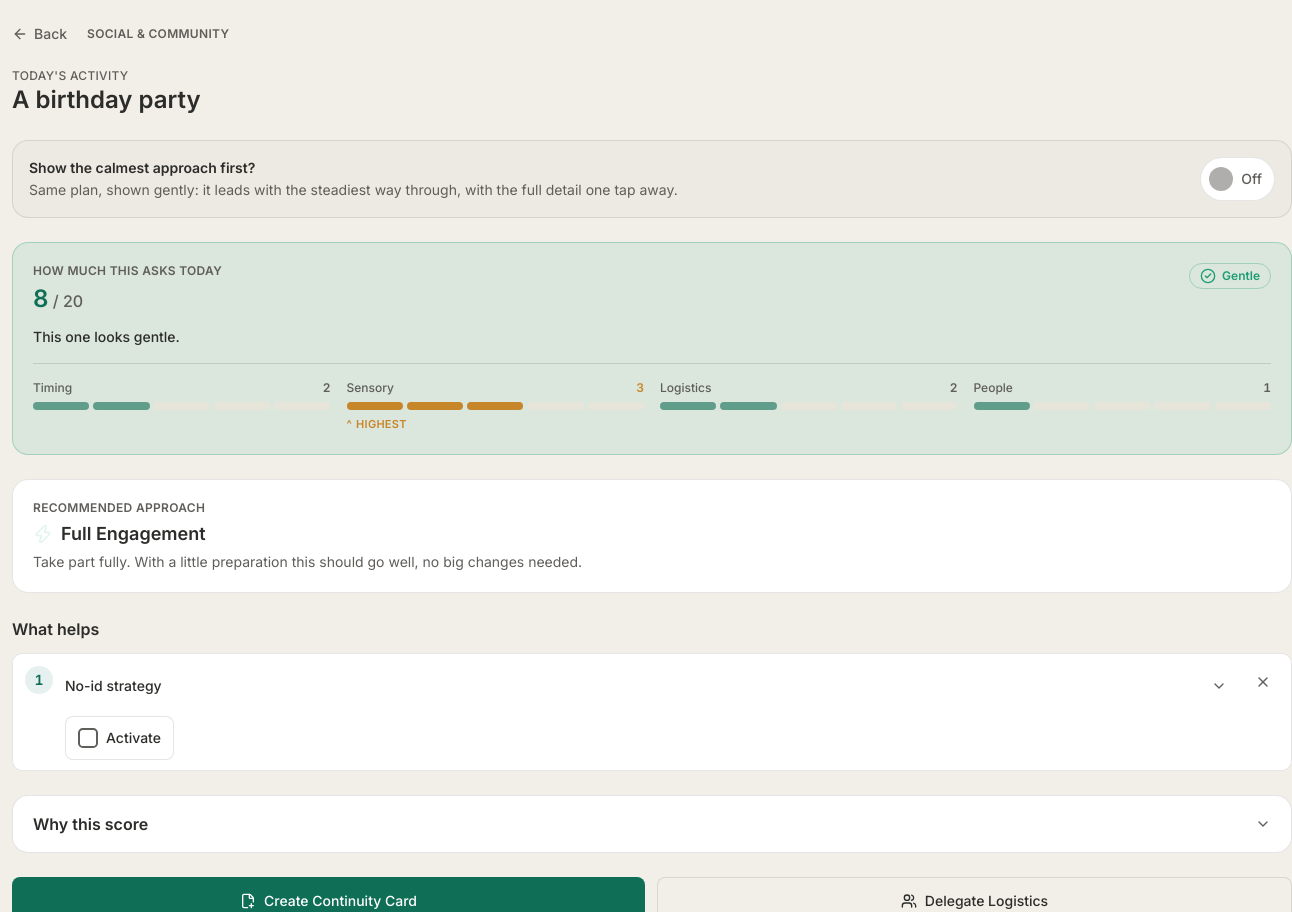
Test case: PreparationPlanView Strategy Library remove (Task 9) › shows NO undo snackbar for a local-only (no library_item_id) removal: there is nothing to re-allow
The image size is (1292, 912).
Click the button named "remove no-id strategy": (1263, 682) [1241,660,1285,704]
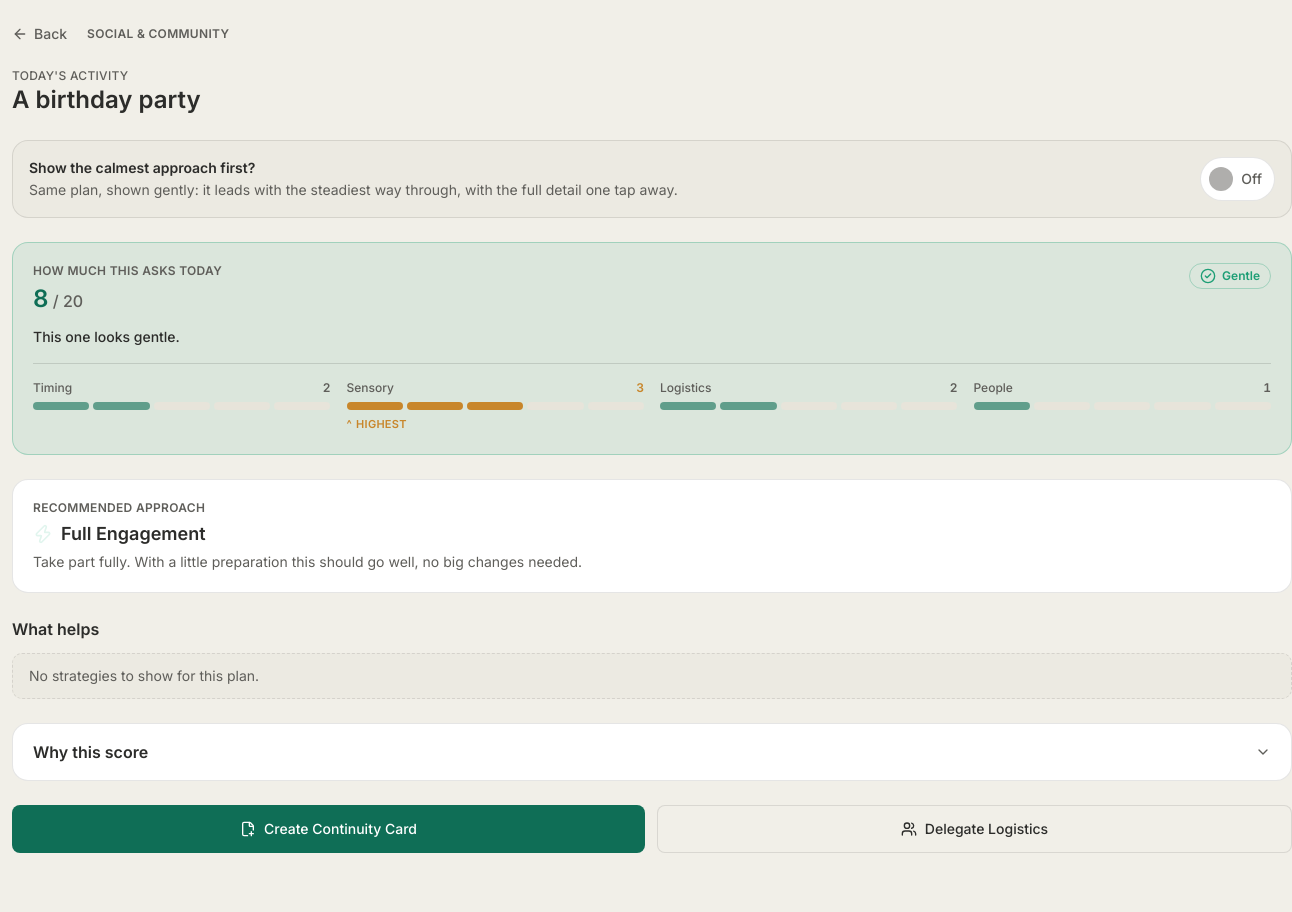
Expected: the heading "No-id strategy" is gone
